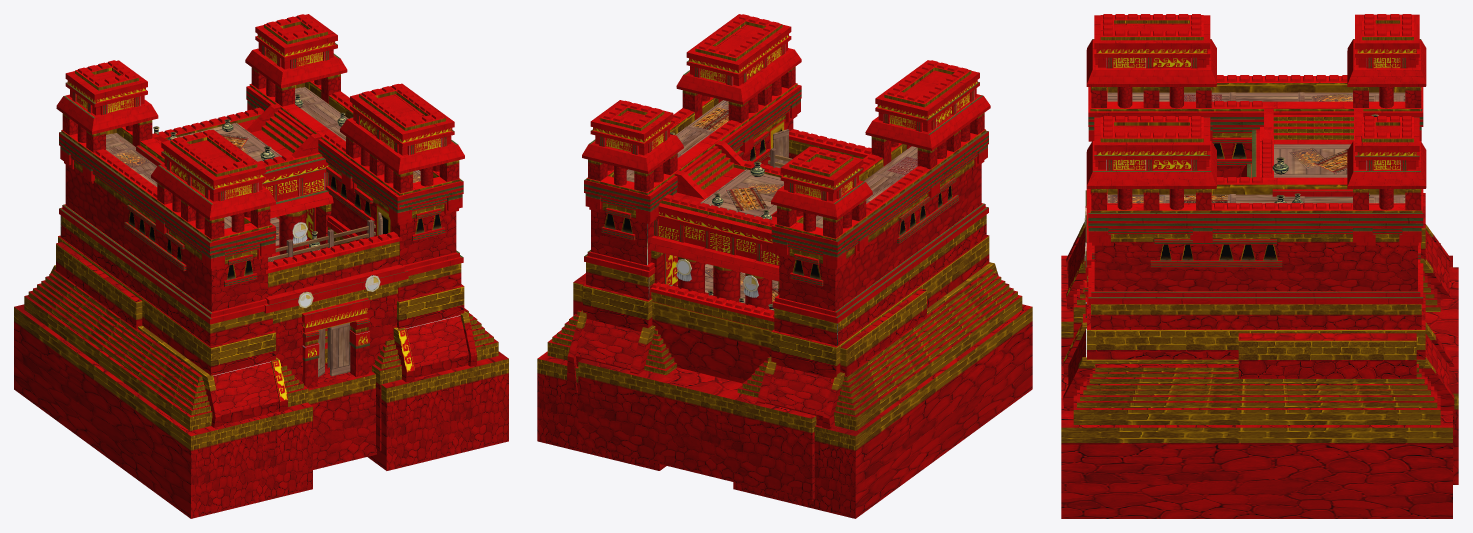
File: zapo_fortress.dae
3 renders of one model, left to right at view 1: azimuth 30°, elevation 25°; view 2: azimuth 150°, elevation 25°; view 3: azimuth 270°, elevation 25°, orthographic. The views are drawn at different scales.
Visible parts, largest first — view 1: Civic_Center_006; view 2: Civic_Center_006; view 3: Civic_Center_006.
Boxes of the visible parts, x1=… form: Civic_Center_006: x1=14, y1=14, x2=508, y2=518; Civic_Center_006: x1=537, y1=14, x2=1032, y2=518; Civic_Center_006: x1=1061, y1=14, x2=1458, y2=518.
Bounding box in the file's own units: 29.25 × 28.59 × 28.4.
